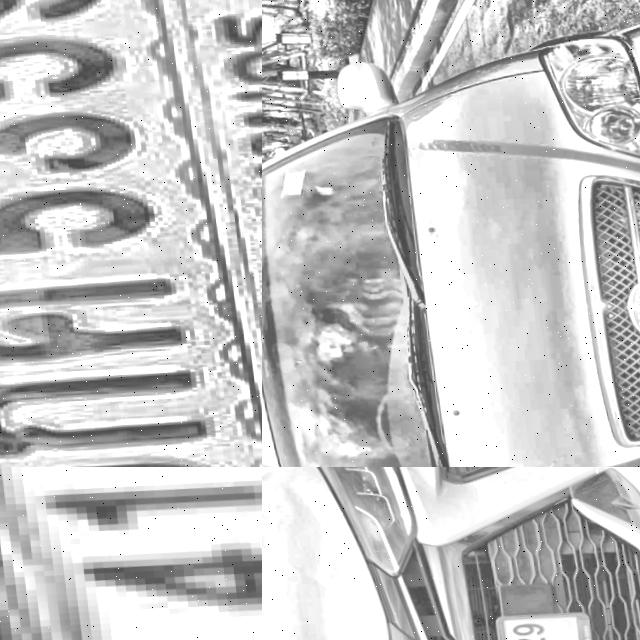license-plate: (0, 0, 262, 467), (0, 467, 262, 640), (480, 604, 606, 640)
